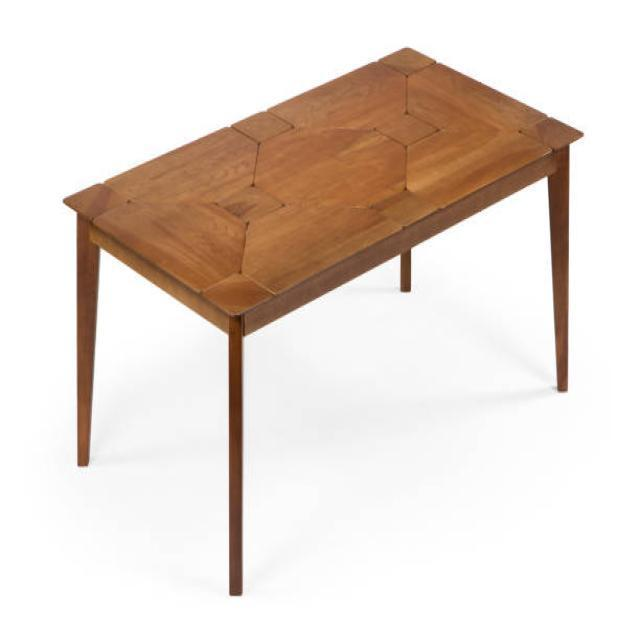table: (61, 44, 584, 596)
